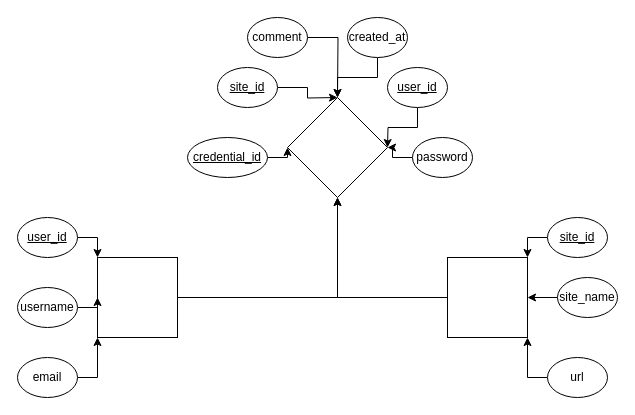
Image size: 635x415. Some labels were removed from this diagram. Here are the shapes that lost their labels. From the top down, the centre of each, then its label:
At (337,147): "Credentials".
At (137,297): "Users".
At (487,297): "Sites".
